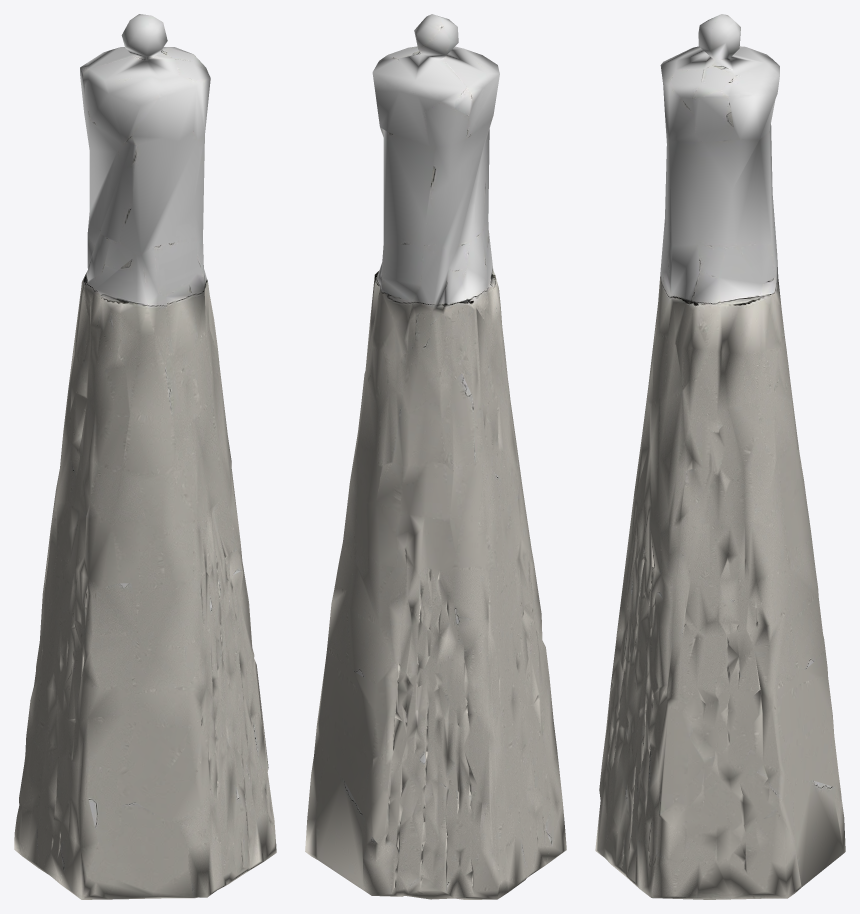
File: queen-white.glb
3 renders of one model, left to right at view 1: azimuth 30°, elevation 25°; view 2: azimuth 150°, elevation 25°; view 3: azimuth 270°, elevation 25°, orthographic.
Bounding box in the file's own units: 0.4102 × 1.65 × 0.4459.
1 material, 1 textured.
